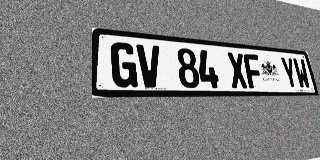4: (196, 49, 220, 88)
8: (176, 47, 200, 88)
F: (243, 53, 264, 88)
G: (110, 42, 138, 87)
V: (136, 44, 162, 88)
W: (292, 58, 311, 89)
X: (226, 52, 249, 88)
Y: (279, 57, 299, 89)
